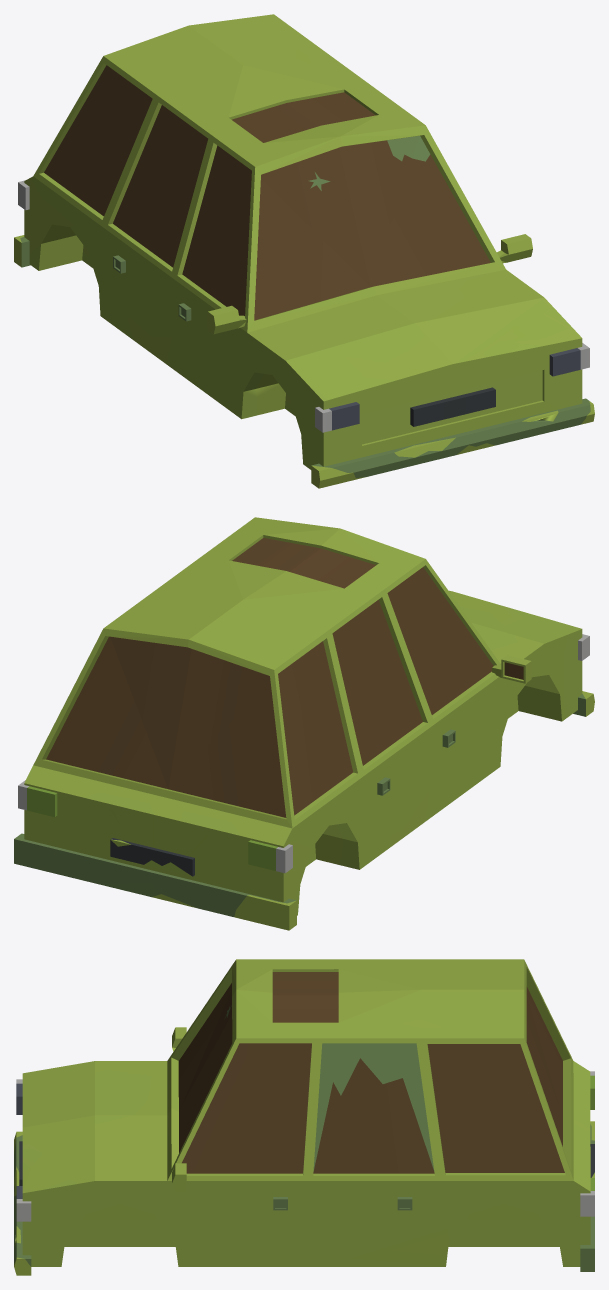
File: OldCar_05.fbx
3 views of the same model, one above another, from view 1: azimuth 30°, elevation 25°; view 2: azimuth 150°, elevation 25°; view 3: azimuth 270°, elevation 25° (orthographic). The views are drawn at different scales.
Parts seen in each view (by area): view 1: OldCar_05; view 2: OldCar_05; view 3: OldCar_05.
Part boxes in pixels (bbox=[...]): OldCar_05: bbox=[14, 14, 594, 488]; OldCar_05: bbox=[14, 517, 594, 930]; OldCar_05: bbox=[14, 959, 594, 1275].
Size of the model in its own units: 1.98 by 1.39 by 3.3.
